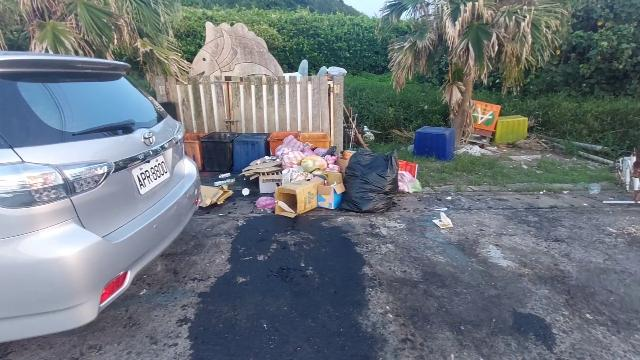pollute: (183, 131, 425, 219), (460, 99, 530, 154), (599, 149, 639, 206), (413, 126, 457, 164)
